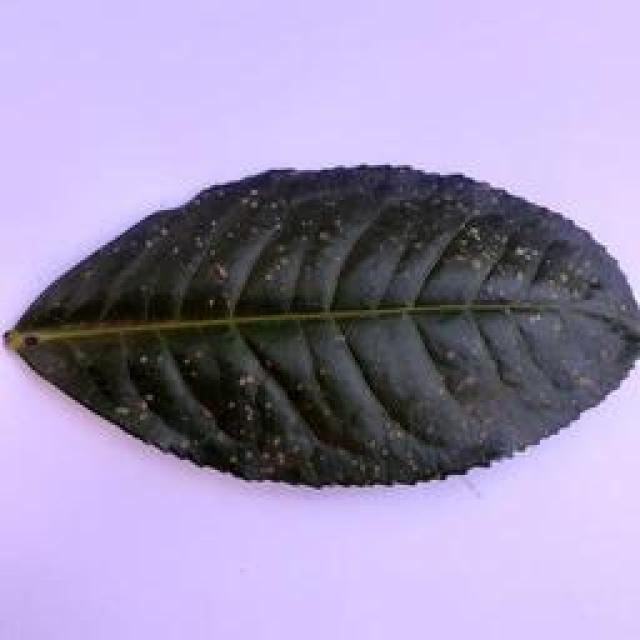Algal Leaf Spot: (1, 155, 636, 501)
